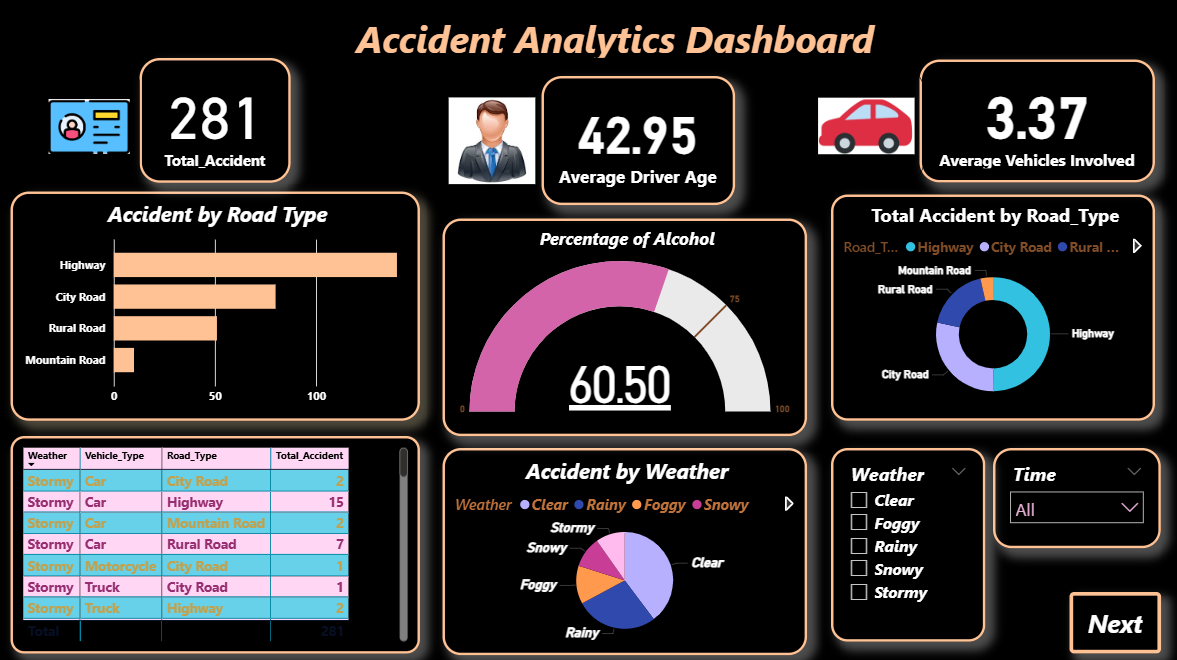

This screenshot's page, from the dashboard's own definition file:
{"tool":"powerbi","page":{"name":"Page 1","canvas":[1280,720],"ordinal":0},"visuals":[{"type":"pieChart","title":" Accident by Weather","fields":{"Category":["Accident.Weather"],"Y":["CountNonNull(Accident.Accident_Severity)"]},"box":[479.8,488,395.3,224.5],"z":0},{"type":"barChart","title":"Accident by Road Type","fields":{"Category":["Accident.Road_Type"],"Y":["Sum(Accident.Accident)"]},"box":[11.4,209.8,444,248.9],"z":1000},{"type":"slicer","title":"Weather","fields":{"Values":["Accident.Weather"]},"box":[901.1,488,167.5,209.8],"z":2000},{"type":"slicer","fields":{"Values":["Accident.Time_of_Day"]},"box":[1076.8,488,182.2,109],"z":3000},{"type":"card","fields":{"Values":["Accident.Total_Accident"]},"box":[151.3,65.1,164.3,135],"z":4000},{"type":"card","fields":{"Values":["Accident.Average Vehicles Involved"]},"box":[997.1,66.7,255.4,133.4],"z":5000},{"type":"card","fields":{"Values":["Accident.Average Driver Age"]},"box":[587.2,84.6,209.8,139.9],"z":6000},{"type":"image","box":[875.1,78.1,126.9,120.4],"z":7000},{"type":"image","box":[40.7,71.6,110.6,133.4],"z":8000},{"type":"image","box":[479.8,102.5,107.4,104.1],"z":9000},{"type":"gauge","title":"Percentage of Alcohol","fields":{"Y":["Accident.Percentage with Alcohol"],"MinValue":["Accident.MinGauge"],"MaxValue":["Accident.MaxGauge"],"TargetValue":["Accident.TargetGauge"]},"box":[479.8,239.1,395.3,235.8],"z":10000},{"type":"donutChart","title":"Total Accident by Road_Type","fields":{"Category":["Accident.Road_Type"],"Y":["Accident.Total_Accident"]},"box":[901.1,213.1,351.3,245.6],"z":11000},{"type":"tableEx","fields":{"Values":["Accident.Weather","Accident.Vehicle_Type","Accident.Road_Type","Accident.Total_Accident"]},"box":[11.4,475,444,235.8],"z":12000},{"type":"textbox","title":"Accident Analytics Dashboard","box":[315.5,16.3,702.7,48.8],"z":13000},{"type":"actionButton","box":[1159.7,644.1,99.2,66.7],"z":15000}]}

Visuals, with their boxes in screenshot pixels (x1, y1, x2, y2), scaled from the page's 1280x720 canvas onto the 1177x660 screenshot:
" Accident by Weather" pieChart: locate(441, 447, 805, 653)
"Accident by Road Type" barChart: locate(10, 192, 419, 420)
"Weather" slicer: locate(829, 447, 983, 640)
slicer - Accident.Time_of_Day: locate(990, 447, 1158, 547)
card - Accident.Total_Accident: locate(139, 60, 290, 183)
card - Accident.Average Vehicles Involved: locate(917, 61, 1152, 183)
card - Accident.Average Driver Age: locate(540, 78, 733, 206)
image: locate(805, 72, 921, 182)
image: locate(37, 66, 139, 188)
image: locate(441, 94, 540, 189)
"Percentage of Alcohol" gauge: locate(441, 219, 805, 435)
"Total Accident by Road_Type" donutChart: locate(829, 195, 1152, 420)
tableEx - Accident.Weather x Accident.Vehicle_Type: locate(10, 435, 419, 652)
"Accident Analytics Dashboard" textbox: locate(290, 15, 936, 60)
actionButton: locate(1066, 590, 1158, 652)
